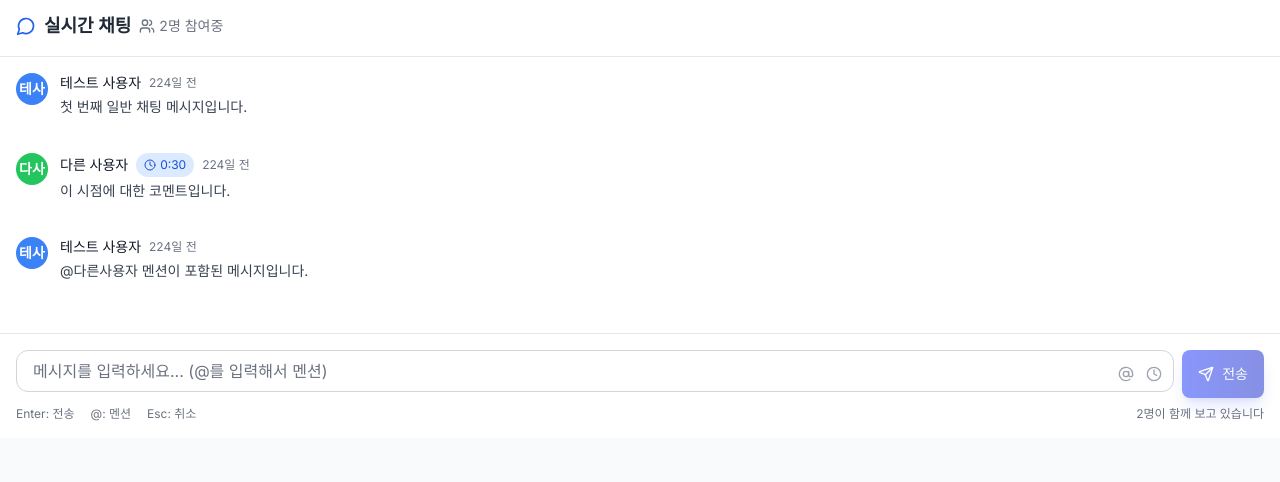
Test: RealtimeComments › 타임스탬프 모드 취소가 작동한다
Click the button titled "현재 시점에 코멘트" at (1154, 374), box [1142,362,1166,386]
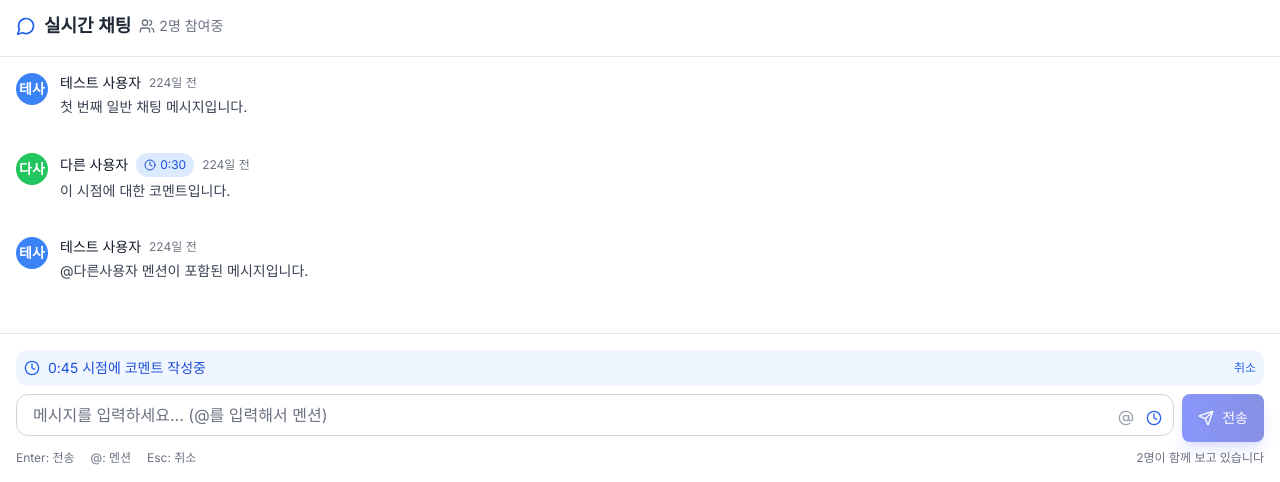
Expected: the text "0:45 시점에 코멘트 작성중" is shown, [48,358,206,378]
# 취소 버튼 클릭
Click the button "취소" at (1245, 368), box [1234,360,1256,376]
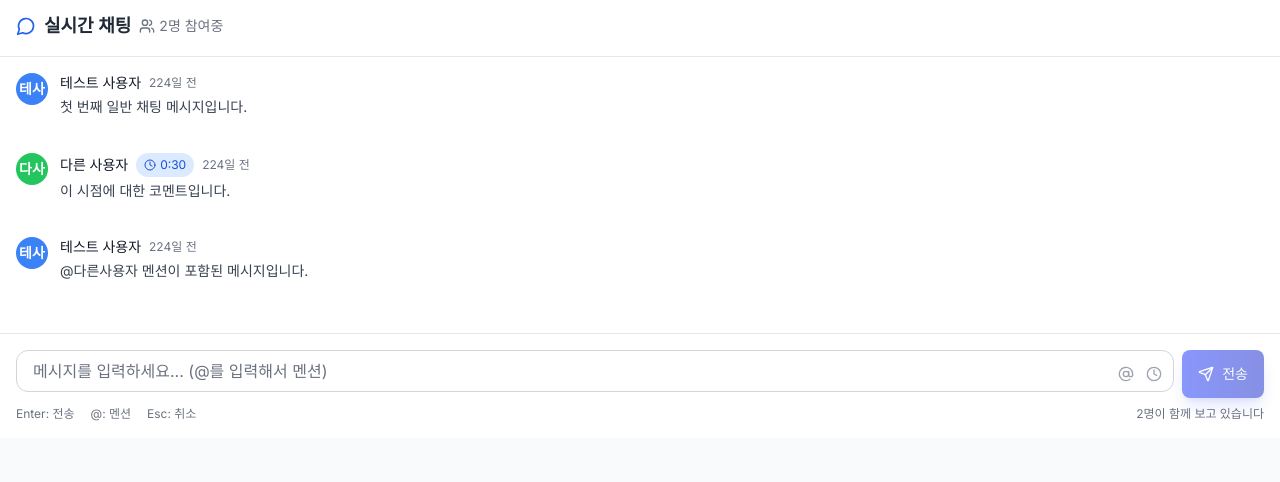
Expected: the text "시점에 코멘트 작성중" is gone
